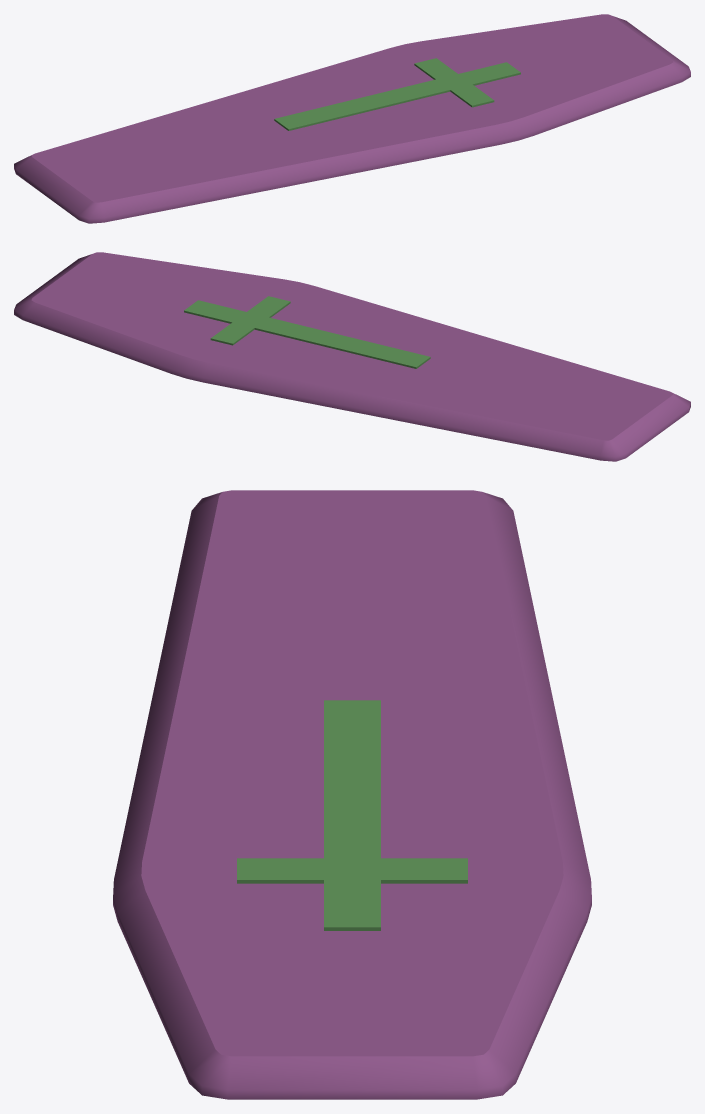
File: CoffinCover.fbx
The picture shows the model from 3 angles, top to bottom: view 1: azimuth 30°, elevation 25°; view 2: azimuth 150°, elevation 25°; view 3: azimuth 270°, elevation 25°; orthographic projection. The views are drawn at different scales.
Visible parts, largest first — view 1: Shape001, Box002; view 2: Shape001, Box002; view 3: Shape001, Box002.
Part boxes in pixels (x1,y1,x2,y2): Shape001: (14, 14, 690, 223); Box002: (274, 58, 520, 130); Shape001: (14, 252, 690, 461); Box002: (184, 296, 430, 368); Shape001: (113, 490, 591, 1099); Box002: (237, 700, 467, 930).
Bounding box in the file's own units: 115 × 2.89 × 39.14.
